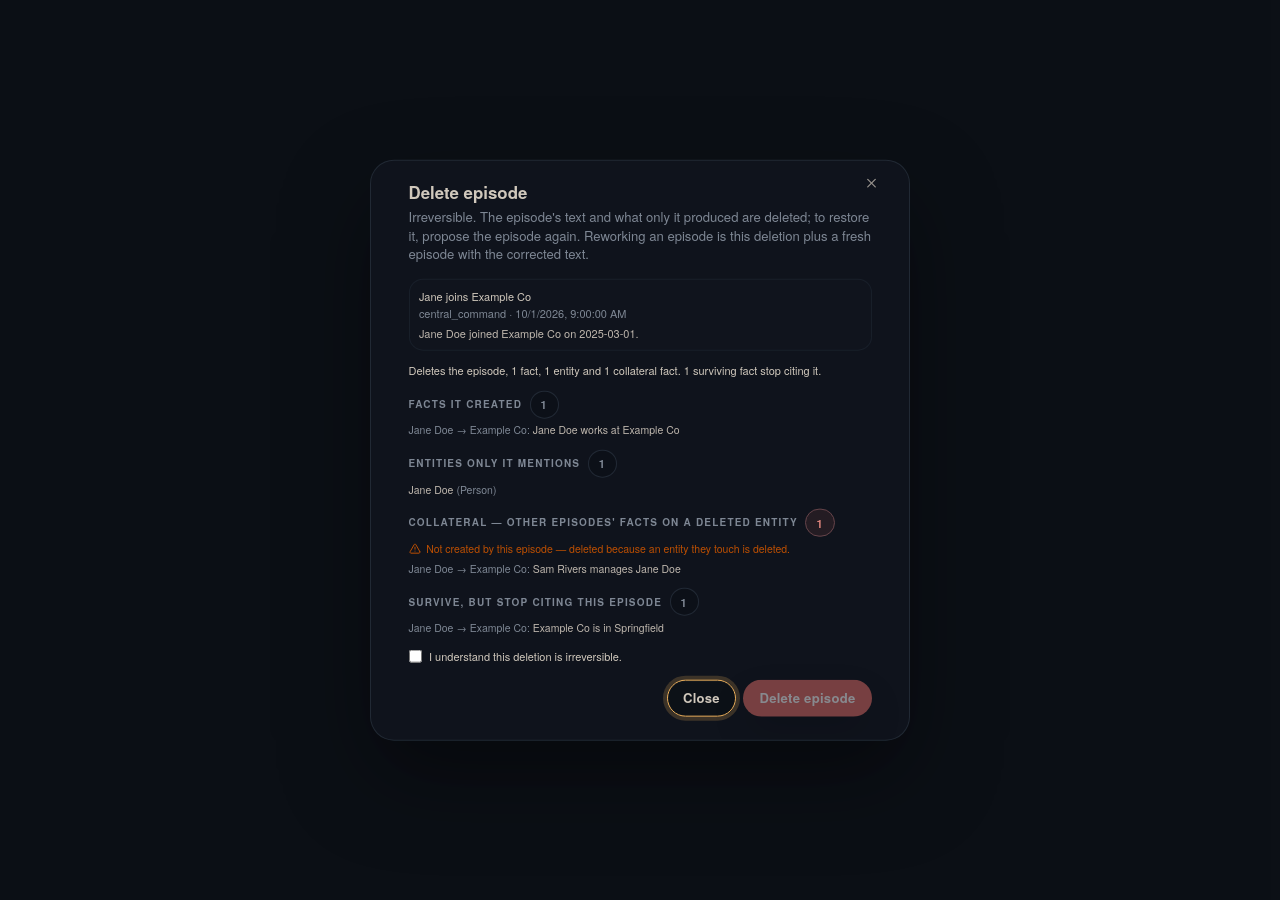
Scenario: EpisodeDeleteDialog › says "queued" when the deletion is waiting its turn, and does not report it done
This screenshot has width=1280, height=900.
Expected: the text with test id "delete-counts" is shown, 408,362 -> 872,379
Click the checkbox labelled "I understand this deletion is irreversible": point(415, 656) 408,649 -> 422,662
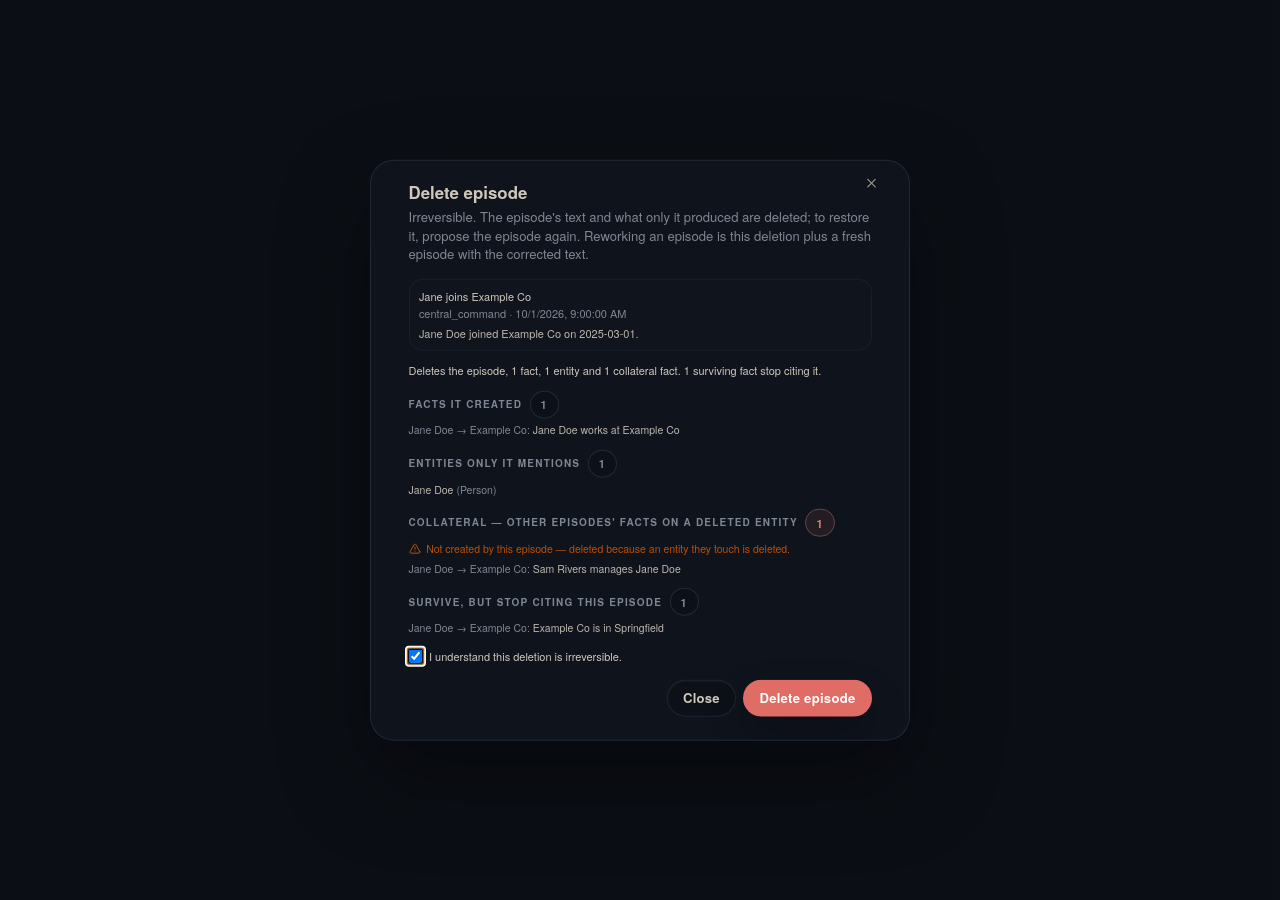
Click the button "Delete episode": point(807, 698) 743,679 -> 872,717
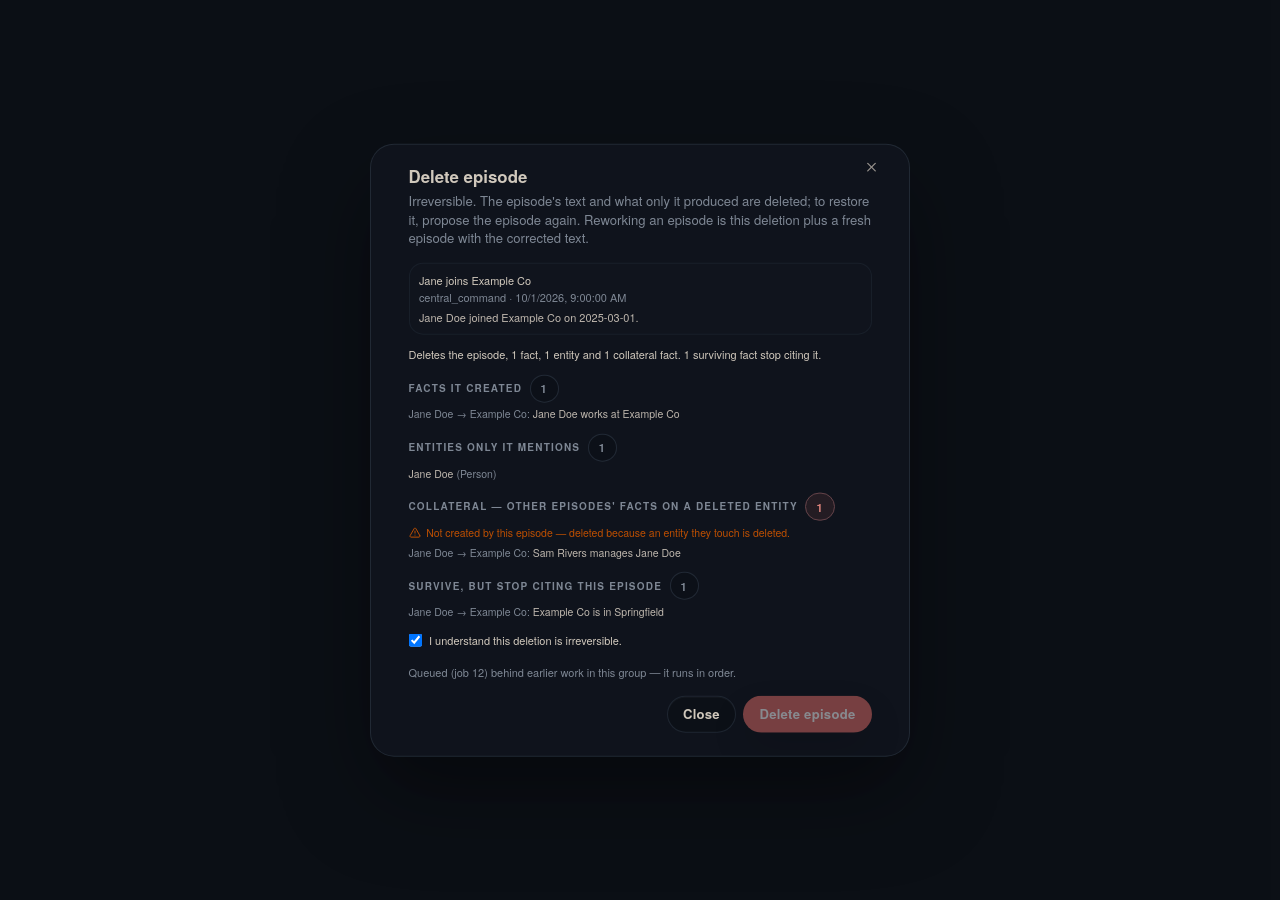
Expected: the message shows "Queued (job 12)", 408,663 -> 736,679
